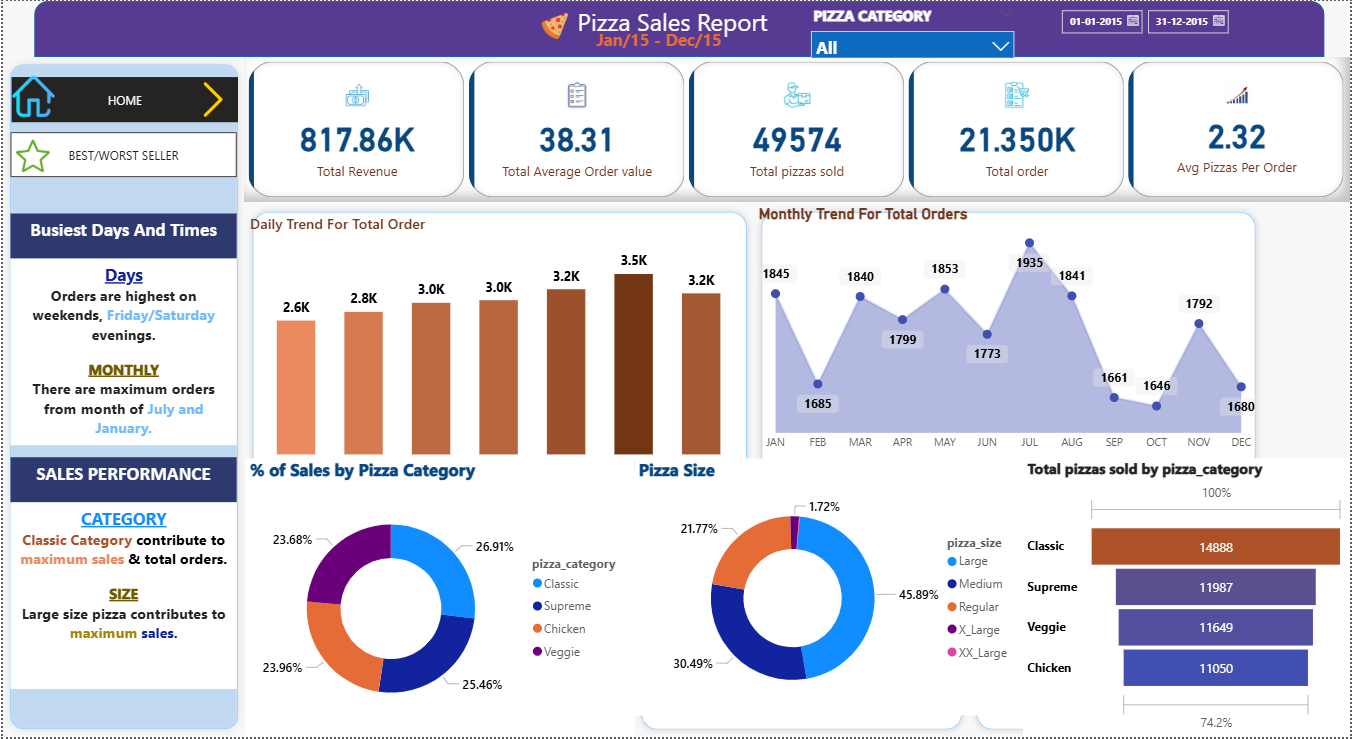

What the dashboard file says about the page in this screenshot:
{"tool":"powerbi","page":{"name":"HOME","canvas":[1500,820],"ordinal":0},"visuals":[{"type":"shape","box":[0,63.3,270,756.7],"z":0},{"type":"cardVisual","fields":{"Data":["pizza_sales.Total Revenue","pizza_sales.Total Average Order value","pizza_sales.Total pizzas sold","pizza_sales.Total order","pizza_sales.Avg Pizzas Per Order"]},"box":[268.3,63.3,1231.7,161.7],"z":1000},{"type":"shape","box":[34.4,0,1437.5,62.5],"z":2000},{"type":"textbox","box":[634.4,0,250,62.5],"z":3000},{"type":"textbox","box":[656.2,25,206.2,37.5],"z":4000},{"type":"image","box":[594.4,5.6,40,44.4],"z":5000},{"type":"shape","box":[270,226.7,566.7,310],"z":6000},{"type":"columnChart","title":"Daily Trend For Total Order","fields":{"Y":["pizza_sales.Total order"],"Category":["pizza_sales.Order Day"]},"box":[270,236.7,566.7,300],"z":7000},{"type":"shape","box":[836.7,226.7,566.7,310],"z":8000},{"type":"areaChart","title":"Monthly Trend For Total Orders","fields":{"Category":["pizza_sales.Order Month"],"Y":["pizza_sales.Total order"]},"box":[836.7,226.7,566.7,283.3],"z":9000},{"type":"shape","box":[270,510,433.3,310],"z":10000},{"type":"shape","box":[703.3,510,373.3,310],"z":11000},{"type":"shape","box":[1076.7,510,423.3,310],"z":12000},{"type":"donutChart","title":"% of Sales by Pizza Category","fields":{"Category":["pizza_sales.pizza_category"],"Y":["pizza_sales.Total Revenue"]},"box":[270,510,433.3,310],"z":13000},{"type":"donutChart","title":"Pizza Size","fields":{"Category":["pizza_sales.pizza_size"],"Y":["pizza_sales.Total Revenue"]},"box":[703.3,510,433.3,286.7],"z":14000},{"type":"funnel","fields":{"Category":["pizza_sales.pizza_category"],"Y":["pizza_sales.Total pizzas sold"]},"box":[1136.7,510,363.3,310],"z":15000},{"type":"textbox","box":[8.9,236.7,252.2,50],"z":16000},{"type":"textbox","box":[8.9,286.7,252.2,207.8],"z":16001},{"type":"textbox","box":[8.9,507.9,252.2,50],"z":16002},{"type":"textbox","box":[8.9,557.9,252.2,207.8],"z":16003},{"type":"slicer","fields":{"Values":["pizza_sales.pizza_category"]},"box":[890,0,246.7,63.3],"z":16004},{"type":"slicer","fields":{"Values":["pizza_sales.order_date"]},"box":[1166.7,0,265,63.3],"z":16005},{"type":"pageNavigator","box":[9.2,85,252.5,50],"z":16006},{"type":"pageNavigator","box":[8.3,146.7,252.5,50],"z":16007},{"type":"image","box":[205.8,85,55.8,50],"z":16008},{"type":"image","box":[9.2,149.2,47.5,47.5],"z":16009},{"type":"image","box":[5,78.3,57.5,56.7],"z":16010}]}

Visuals, with their boxes in screenshot pixels (x1, y1, x2, y2), scaled from the page's 1500x820 canvas onto the 1352x739 screenshot:
shape: x1=0, y1=57, x2=243, y2=738
cardVisual - pizza_sales.Total Revenue x pizza_sales.Total Average Order value: x1=242, y1=57, x2=1351, y2=203
shape: x1=31, y1=0, x2=1327, y2=56
textbox: x1=572, y1=0, x2=797, y2=56
textbox: x1=591, y1=23, x2=777, y2=56
image: x1=536, y1=5, x2=572, y2=45
shape: x1=243, y1=204, x2=754, y2=484
"Daily Trend For Total Order" columnChart: x1=243, y1=213, x2=754, y2=484
shape: x1=754, y1=204, x2=1265, y2=484
"Monthly Trend For Total Orders" areaChart: x1=754, y1=204, x2=1265, y2=460
shape: x1=243, y1=460, x2=634, y2=738
shape: x1=634, y1=460, x2=970, y2=738
shape: x1=970, y1=460, x2=1351, y2=738
"% of Sales by Pizza Category" donutChart: x1=243, y1=460, x2=634, y2=738
"Pizza Size" donutChart: x1=634, y1=460, x2=1024, y2=718
funnel - pizza_sales.pizza_category x pizza_sales.Total pizzas sold: x1=1025, y1=460, x2=1351, y2=738
textbox: x1=8, y1=213, x2=235, y2=258
textbox: x1=8, y1=258, x2=235, y2=446
textbox: x1=8, y1=458, x2=235, y2=503
textbox: x1=8, y1=503, x2=235, y2=690
slicer - pizza_sales.pizza_category: x1=802, y1=0, x2=1025, y2=57
slicer - pizza_sales.order_date: x1=1052, y1=0, x2=1290, y2=57
pageNavigator: x1=8, y1=77, x2=236, y2=122
pageNavigator: x1=7, y1=132, x2=235, y2=177
image: x1=185, y1=77, x2=236, y2=122
image: x1=8, y1=134, x2=51, y2=177
image: x1=5, y1=71, x2=56, y2=122
